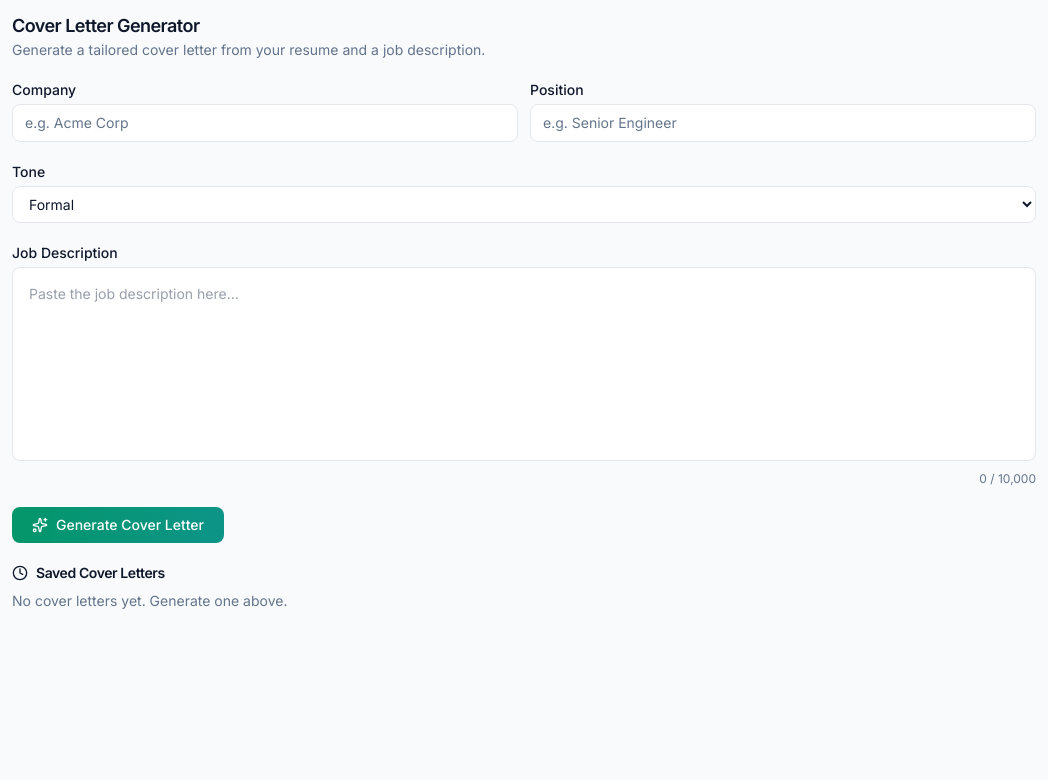
it: CoverLetterPanel › loads history, generates a letter, and deletes it from the UI
This screenshot has width=1048, height=780.
Check: the text "No cover letters yet. Generate one above." is shown, box [12,592,287,609]
Type "Acme Corp" into the field with placeholder "e.g. Acme Corp".
click(265, 123); type("Acme Corp")  # box [12,104,518,142]
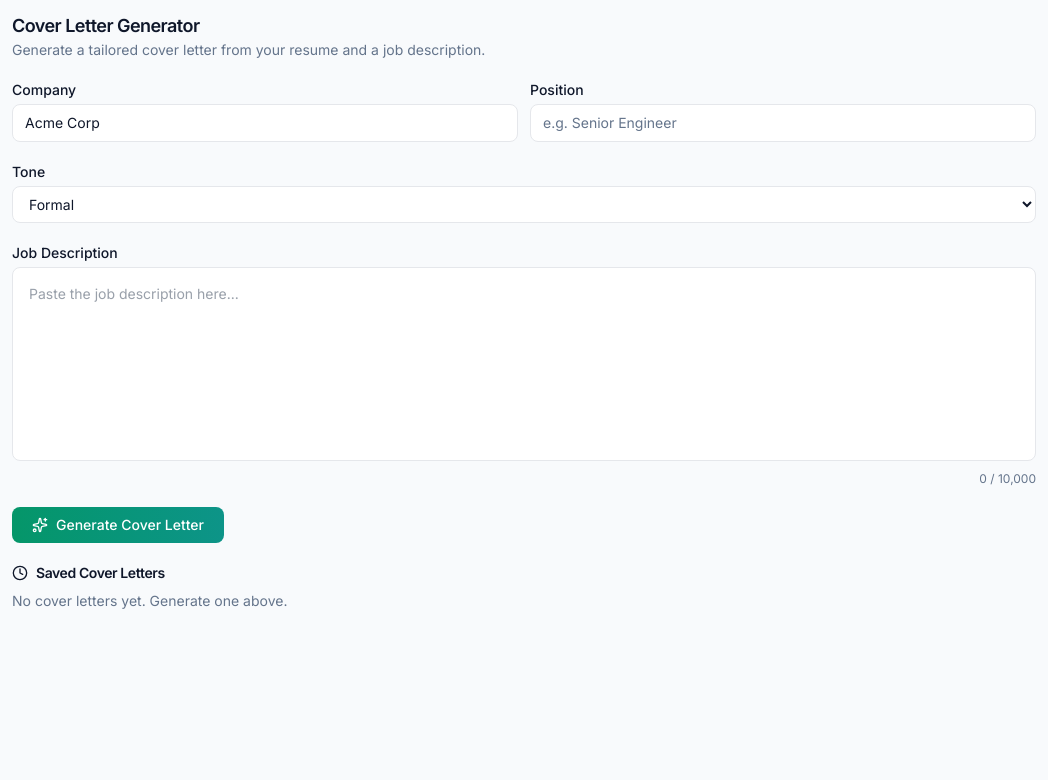
Type "Senior Engineer" into the field with placeholder "e.g. Senior Engineer".
click(783, 123); type("Senior Engineer")  # box [530,104,1036,142]
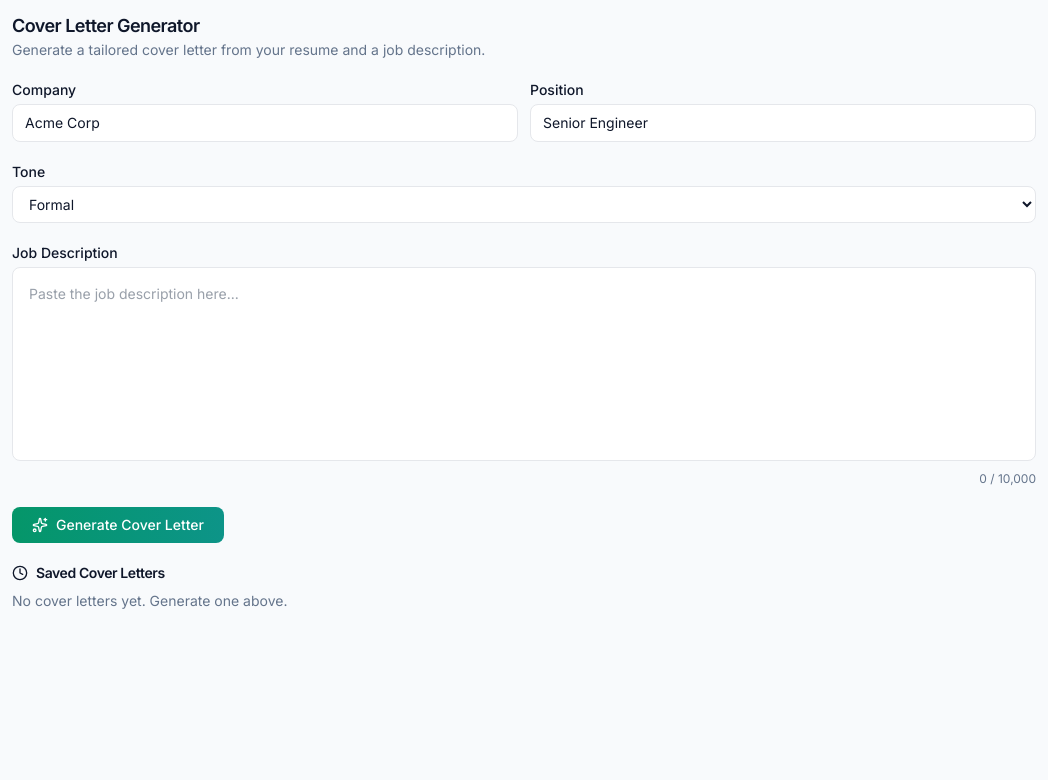
Type "We are looking for a senior engineer to build delightful product experiences, ship quickly, and collaborate with cross-functional teams." into the text box with placeholder "Paste the job description here...".
click(524, 364); type("We are looking for a senior engineer to build delightful product experiences, ship quickly, and collaborate with cross-functional teams.")  # box [12,267,1036,461]
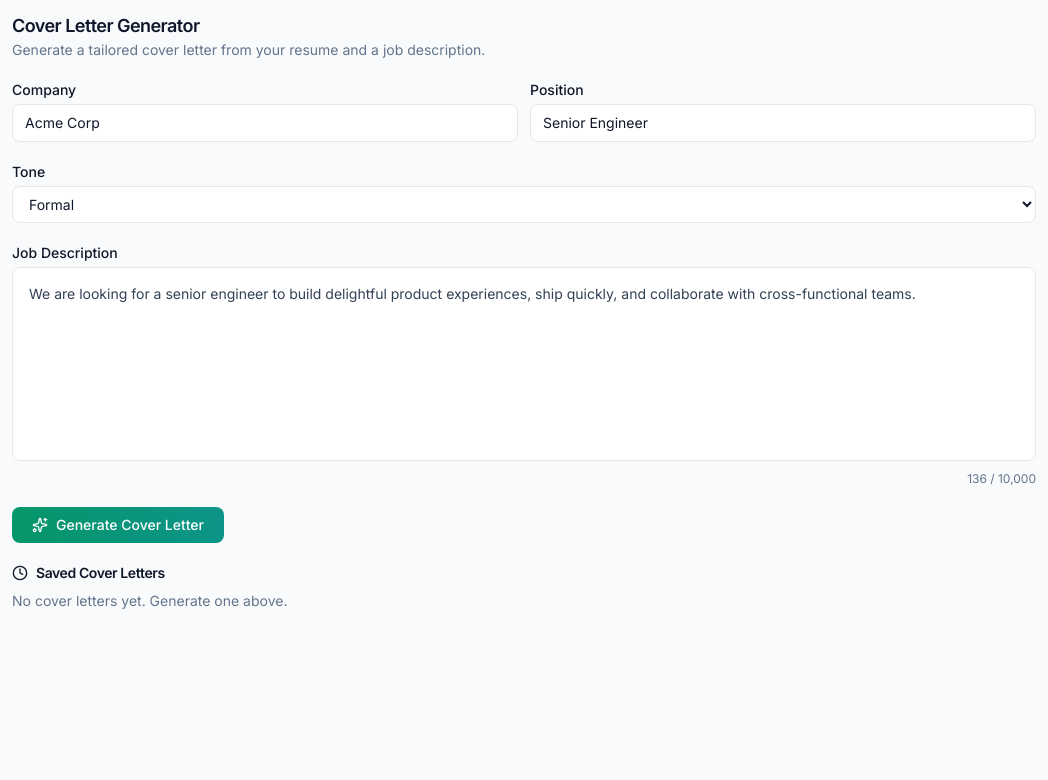
Click the button "Generate Cover Letter".
click(118, 525)  # box [12,507,224,543]
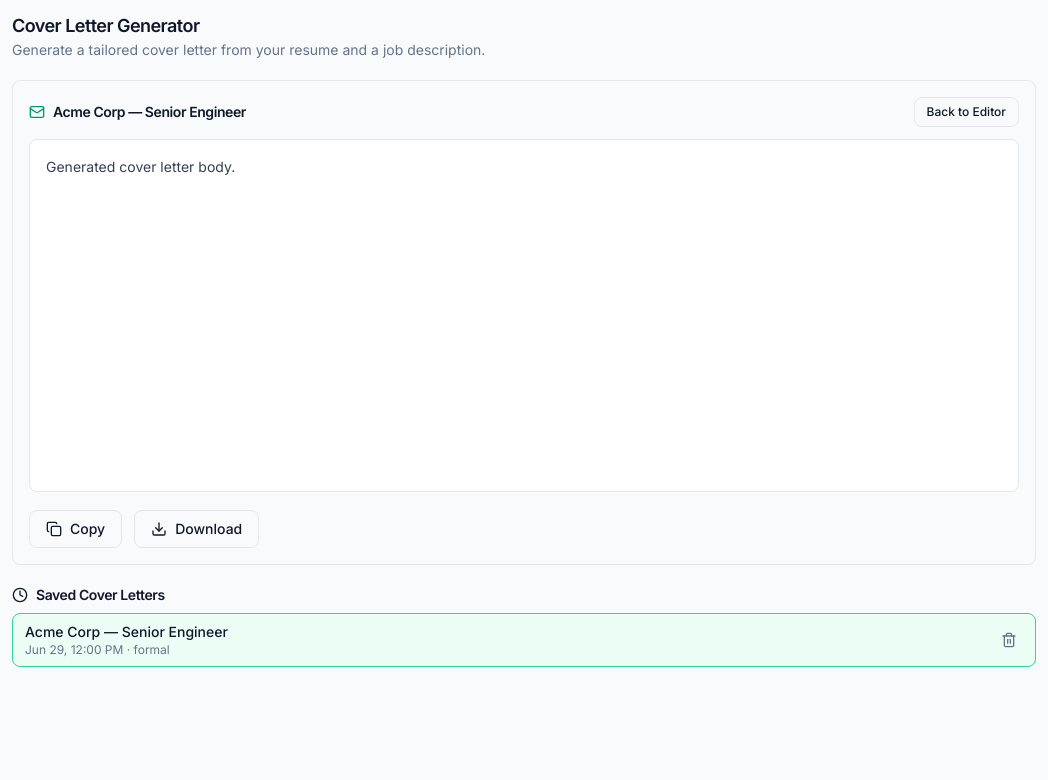
Check: the heading "Acme Corp — Senior Engineer" is shown, box [29,102,246,122]
Check: the text box named "Generated cover letter (editable)" holds "Generated cover letter body.", box [29,139,1019,492]
Click the button named "Delete cover letter".
click(1009, 640)  # box [995,626,1023,654]
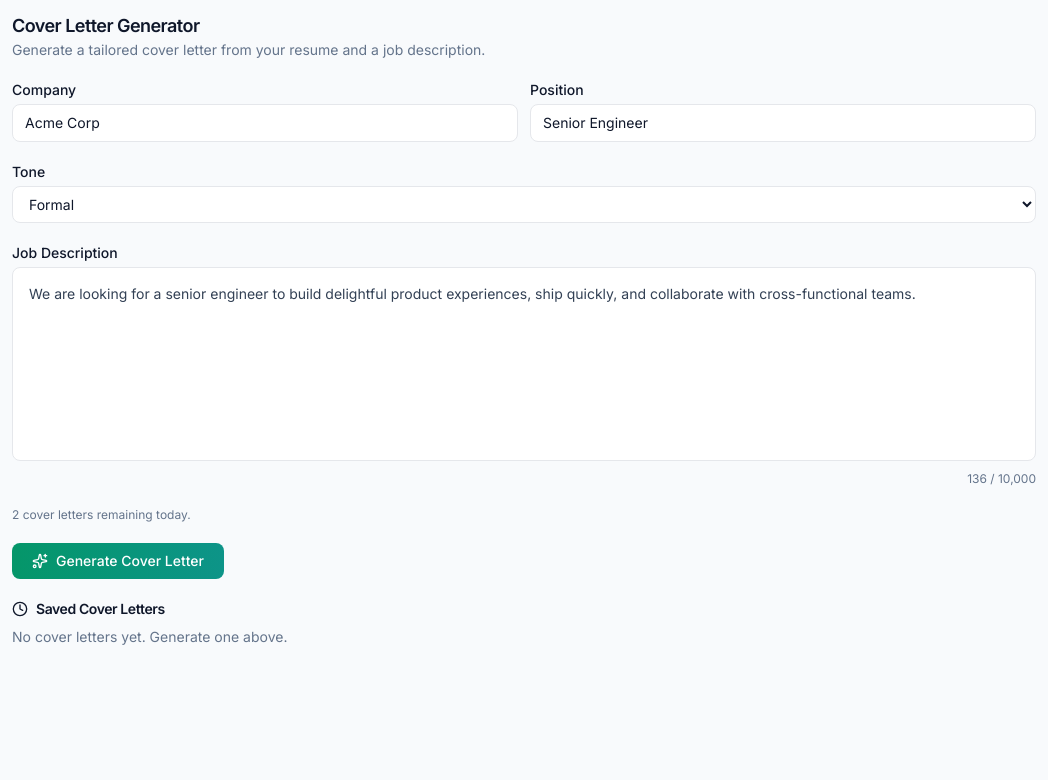
Check: the heading "Acme Corp — Senior Engineer" is gone
